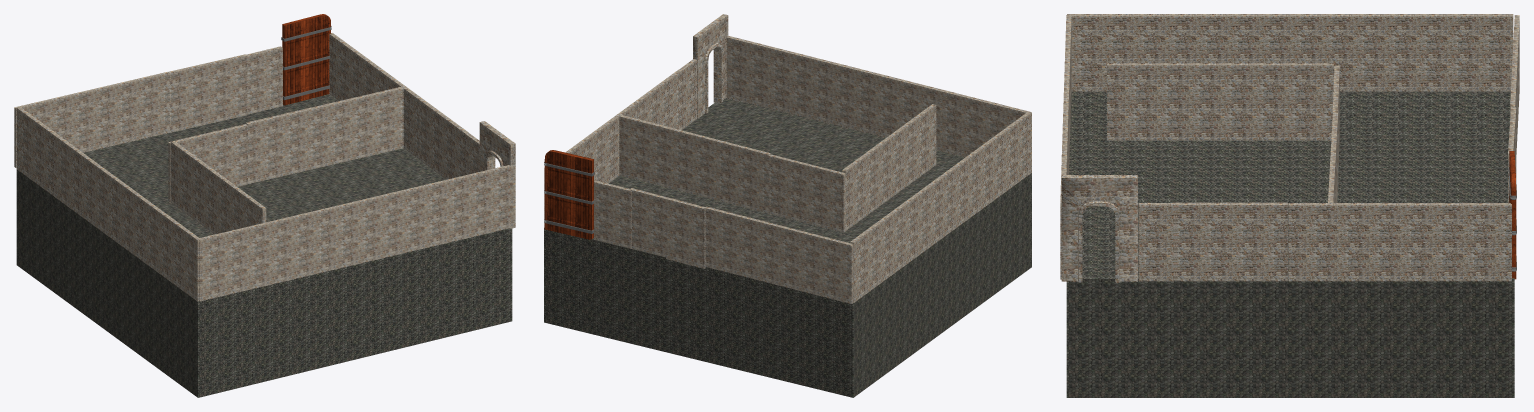
The model's file is map1.obj.
The picture shows the model from 3 angles, left to right: view 1: azimuth 30°, elevation 25°; view 2: azimuth 150°, elevation 25°; view 3: azimuth 270°, elevation 25°; orthographic projection. The views are drawn at different scales.
Visible parts, largest first — view 1: FloorBox, Box001.004, Box001, Box001.010, Box001.001, Box001.009, Box001.002, DoorLeft, Box001.005, Box001.011, Box001.006, Box001.003 (+2 smaller); view 2: FloorBox, Box001.004, Box001, Box001.010, Box001.001, Box001.009, Box001.011, Box001.002, DoorLeft, Box001.007, Box001.003, Box001.005 (+2 smaller); view 3: FloorBox, Box001, Box001.005, Box001.009, Box001.006, Box001.007, Box001.008, Box001.004, Box001.001, Box001.010, DoorLeft, Box001.002 (+1 smaller).
Boxes of the visible parts, x1,y1,x2,y2 form: FloorBox: (16, 94, 512, 397); Box001.004: (198, 165, 515, 301); Box001: (17, 107, 199, 301); Box001.010: (245, 86, 403, 183); Box001.001: (14, 72, 169, 168); Box001.009: (170, 141, 266, 234); Box001.002: (168, 54, 247, 132); DoorLeft: (281, 14, 331, 105); Box001.005: (329, 33, 422, 159); Box001.011: (168, 124, 247, 202); Box001.006: (419, 99, 468, 179); Box001.003: (246, 46, 282, 114); FloorBox: (544, 98, 1031, 397); Box001.004: (726, 36, 1029, 157); Box001: (850, 112, 1031, 302); Box001.010: (619, 115, 770, 213); Box001.001: (704, 206, 853, 303); Box001.009: (842, 104, 936, 230); Box001.011: (768, 154, 845, 232); Box001.002: (629, 188, 705, 268); DoorLeft: (544, 150, 594, 239); Box001.007: (693, 14, 728, 118); Box001.003: (594, 180, 631, 248); Box001.005: (544, 102, 637, 226); FloorBox: (1066, 91, 1514, 397); Box001: (1067, 14, 1513, 91); Box001.005: (1288, 203, 1511, 281); Box001.009: (1107, 63, 1333, 140); Box001.006: (1175, 202, 1287, 281); Box001.007: (1061, 175, 1137, 282); Box001.008: (1138, 203, 1175, 281); Box001.004: (1060, 15, 1071, 279); Box001.001: (1510, 15, 1519, 154); Box001.010: (1328, 110, 1338, 202); DoorLeft: (1508, 151, 1516, 279); Box001.002: (1508, 107, 1516, 202).
Bounding box in the file's own units: 523 × 281 × 531.
